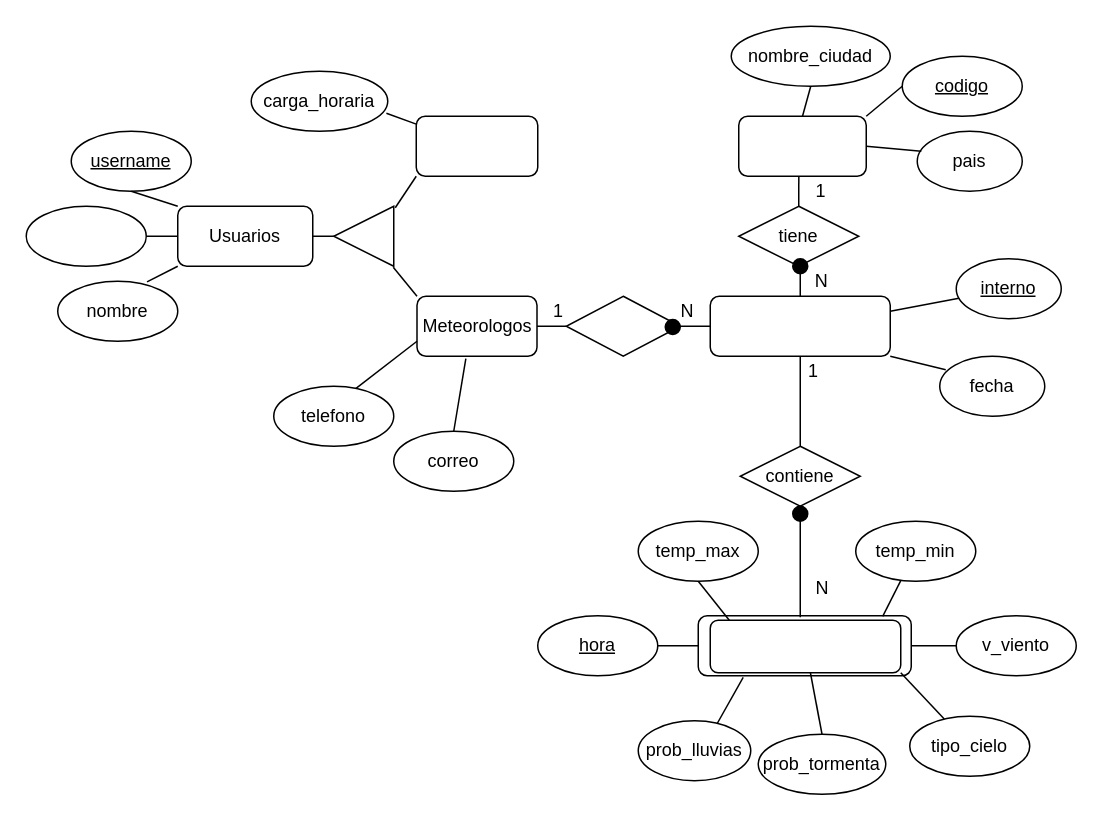
Some shapes in this 1103 by 821 pixel diagram are drawn without their labels. Here are the shapes that lost their labels. From the top down, the box of each, then its label:
(415, 115, 538, 176): Empleados
(737, 115, 866, 176): Ciudades
(25, 205, 146, 266): password
(565, 295, 680, 356): registran
(709, 295, 890, 356): Pronosticos_Tiempo
(697, 614, 911, 676): Pronosticos_Hora
